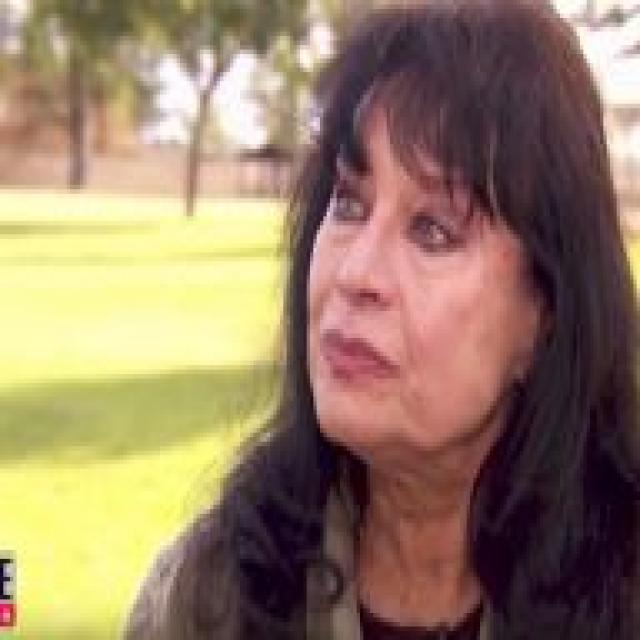mobile_phonerotation: (0, 546, 17, 626)
